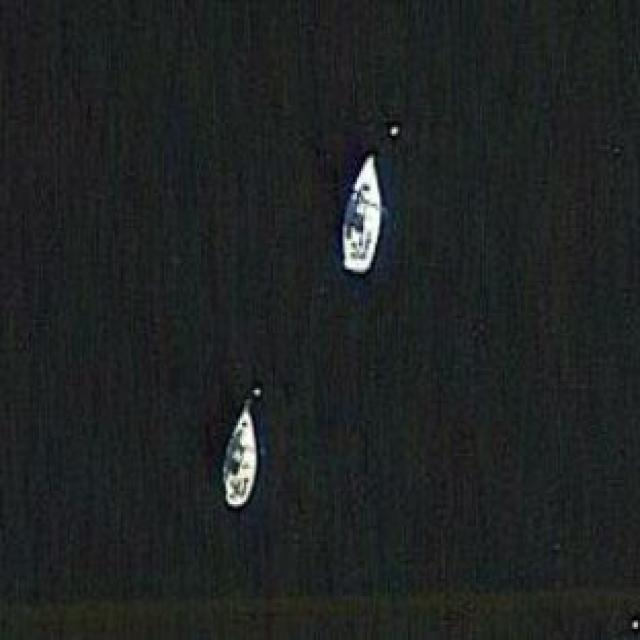boat: (336, 149, 386, 274), (222, 392, 266, 511)
